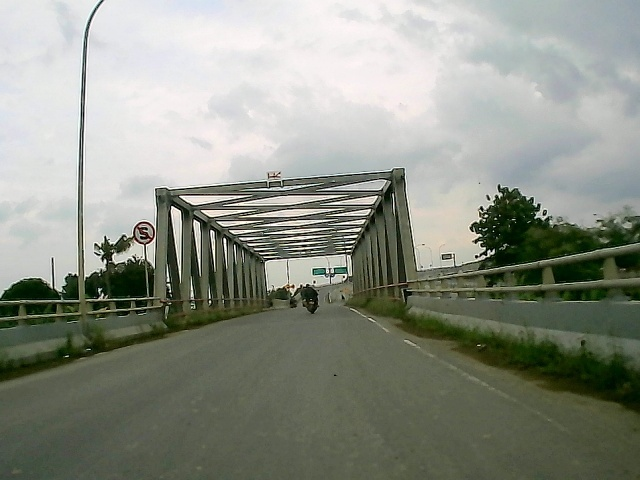Dilarang berhenti: (130, 219, 156, 246)
